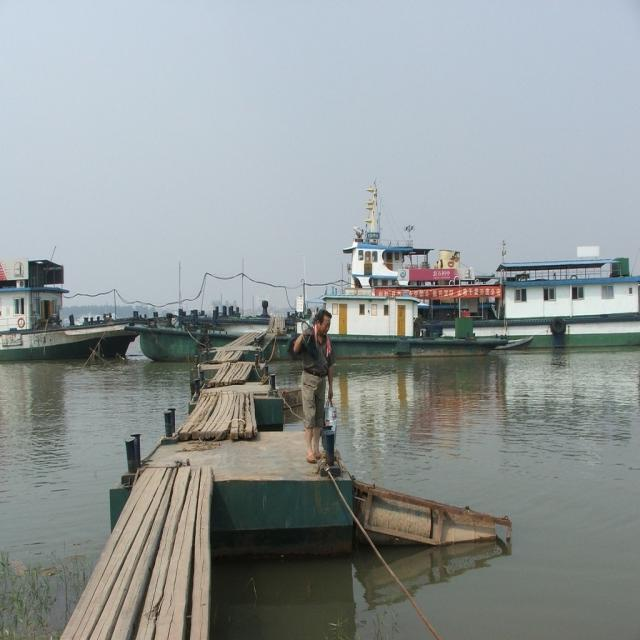boat: (299, 178, 501, 363), (0, 284, 137, 359)
